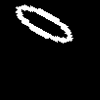chain: (16, 5, 72, 42)
